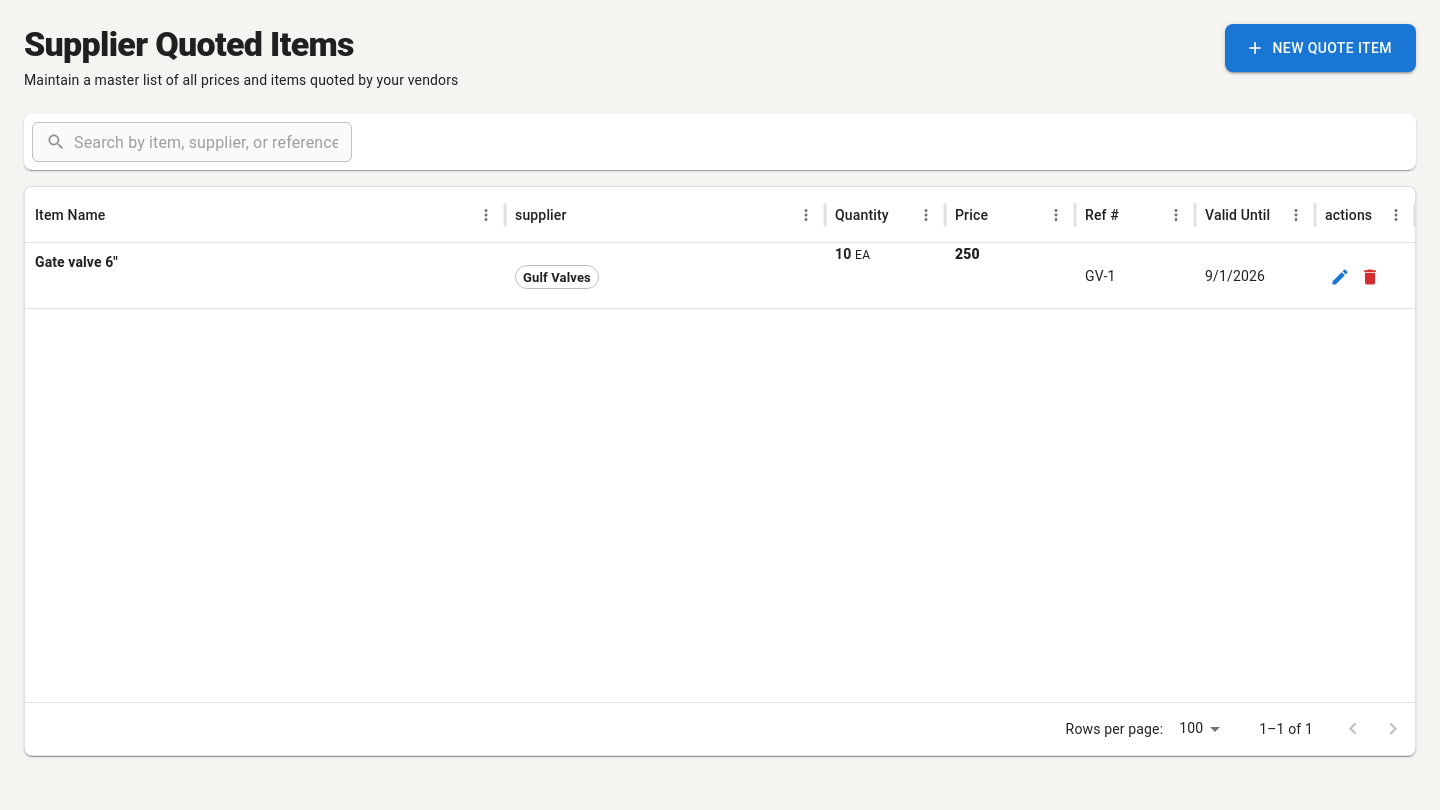
Test: Supplier quoted items — the four states of one grid › filtered-to-zero is visibly different, and offers to clear the filter
Check: the heading "Gate valve 6\"" is shown, box [35,254,118,270]
In the field with placeholder "Search by item, supplier, or reference...": (213, 142) [74,122,352,162], type "zzzz"
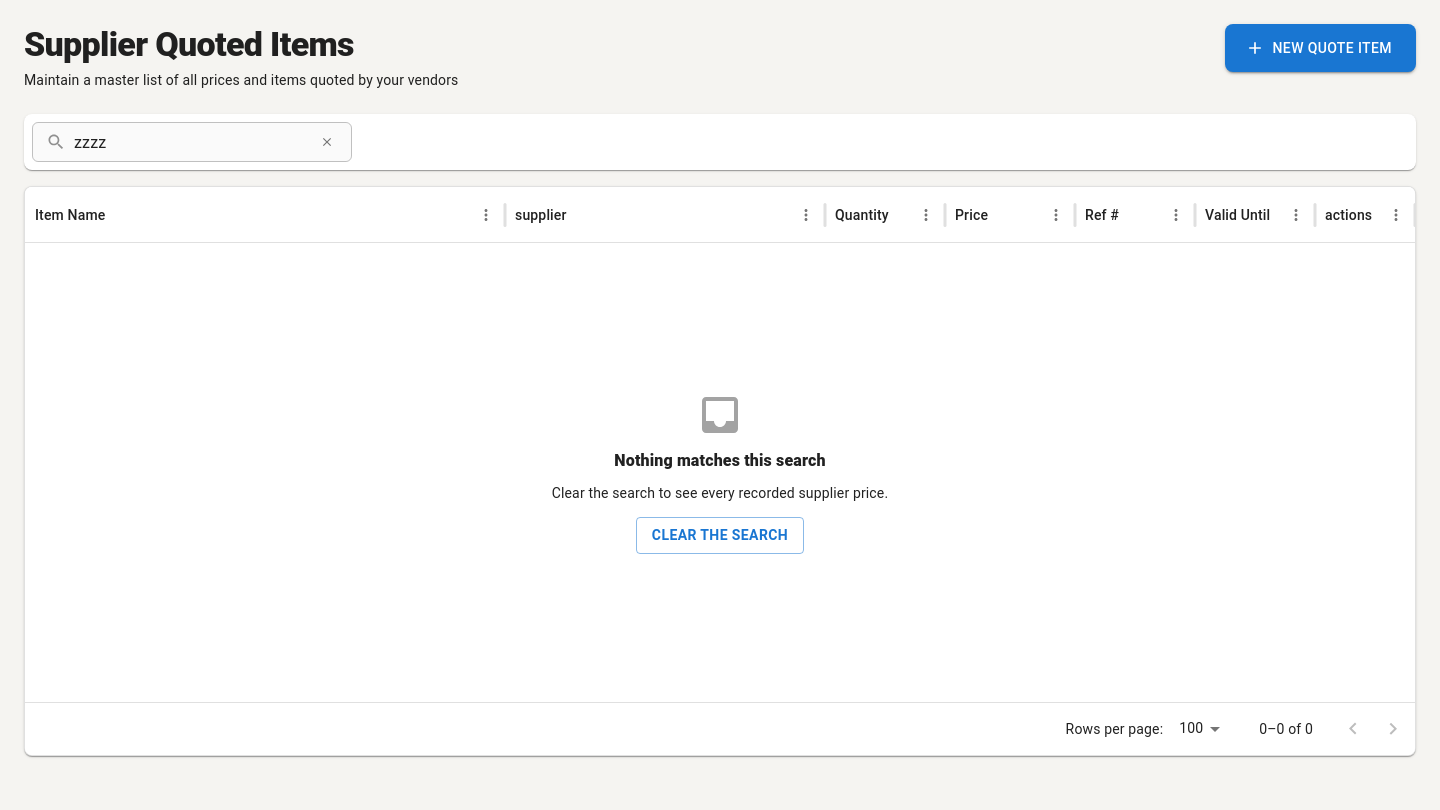
Check: the text "Nothing matches this search" is shown, box [614,449,826,473]
Check: the button "Clear the search" is shown, box [636,517,804,554]
